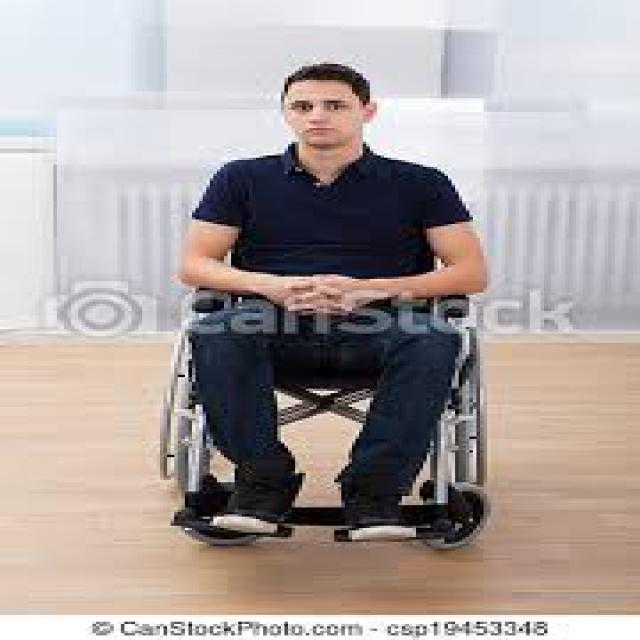wheelchairs: (132, 228, 508, 554)
